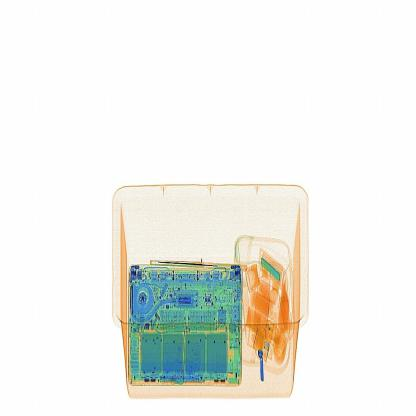wrench: (144, 247, 258, 283)
